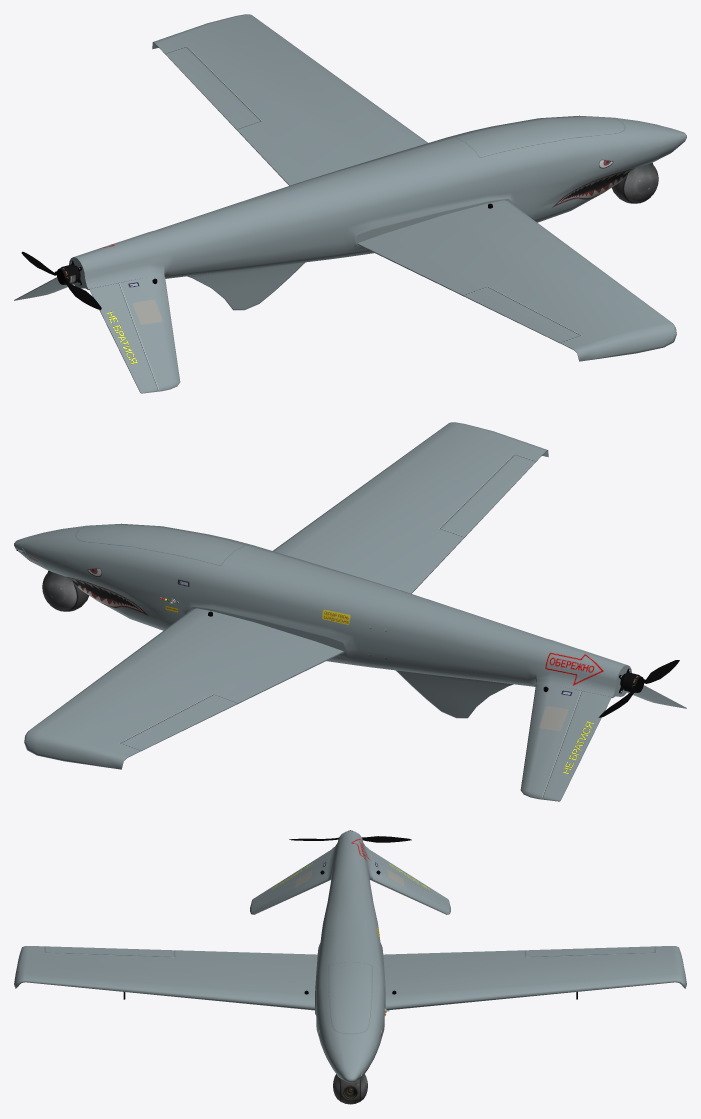
The model's file is shark.fbx.
3 views of the same model, one above another, from view 1: azimuth 30°, elevation 25°; view 2: azimuth 150°, elevation 25°; view 3: azimuth 270°, elevation 25° (orthographic). The views are drawn at different scales.
Visible parts, largest first — view 1: plane, helice_ls_1; view 2: plane, helice_ls_1; view 3: plane.
Part boxes in pixels (x1=…): plane: x1=14, y1=14, x2=686, y2=393; helice_ls_1: x1=21, y1=251, x2=101, y2=310; plane: x1=14, y1=422, x2=686, y2=801; helice_ls_1: x1=598, y1=660, x2=679, y2=717; plane: x1=14, y1=830, x2=686, y2=1104.
Bounding box in the file's own units: 1.59 × 1.89 × 0.2735.
7 materials, 7 textured.
